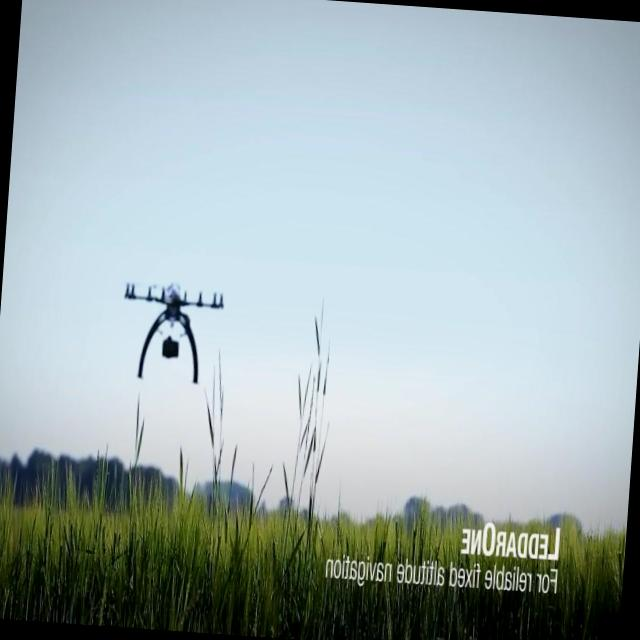drone: (116, 276, 228, 390)
